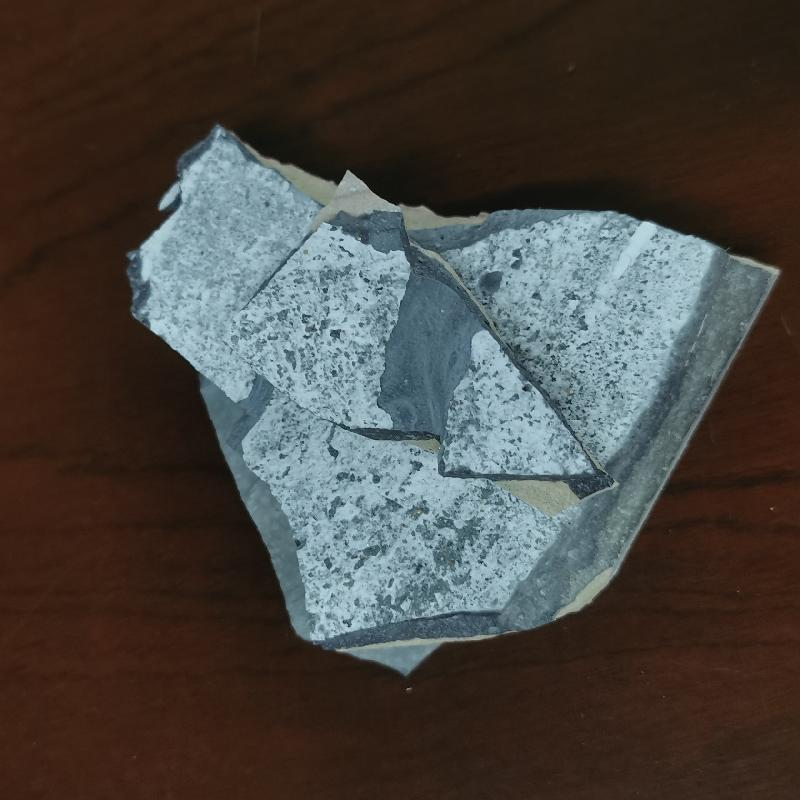tile: (117, 120, 783, 680)
